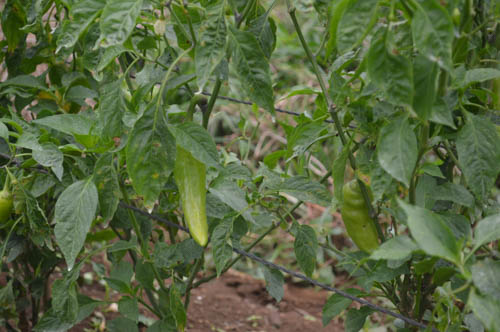ChiliPepper: (173, 141, 211, 241), (344, 186, 377, 251)
